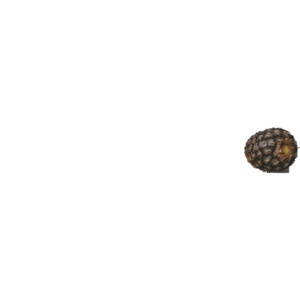abacaxi: (242, 127, 299, 173)
